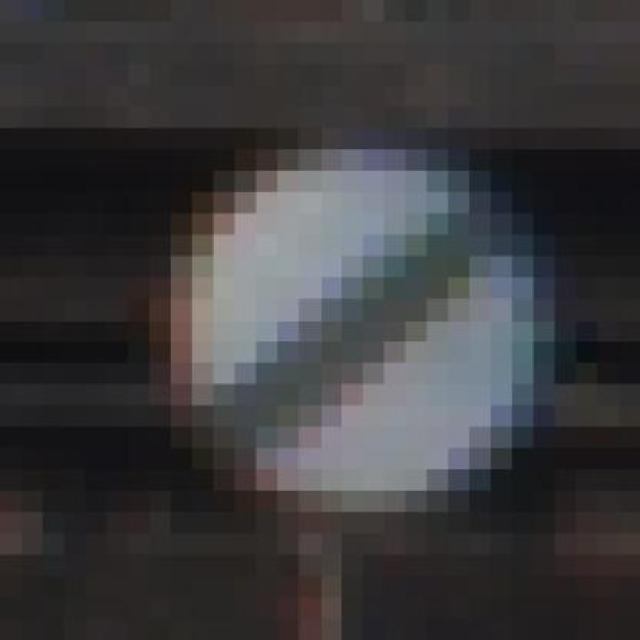End of all speed and passing limits: (170, 128, 555, 534)
